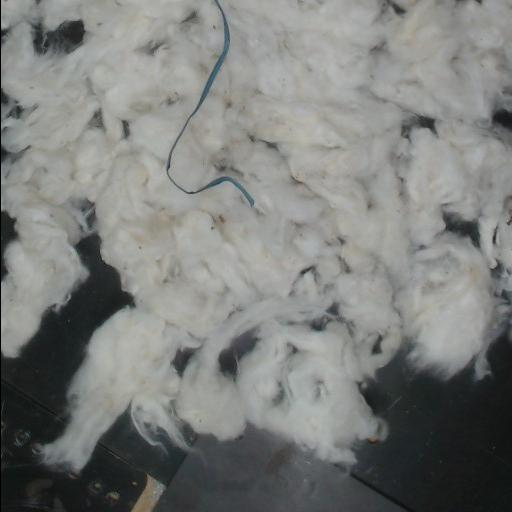conveyor belt: (1, 236, 512, 511), (218, 333, 256, 377), (444, 216, 479, 243), (173, 350, 196, 375), (1, 214, 14, 251), (493, 110, 512, 130), (185, 428, 193, 438)
cotton: (1, 0, 512, 469), (34, 20, 85, 52)
thread: (165, 0, 254, 207)
